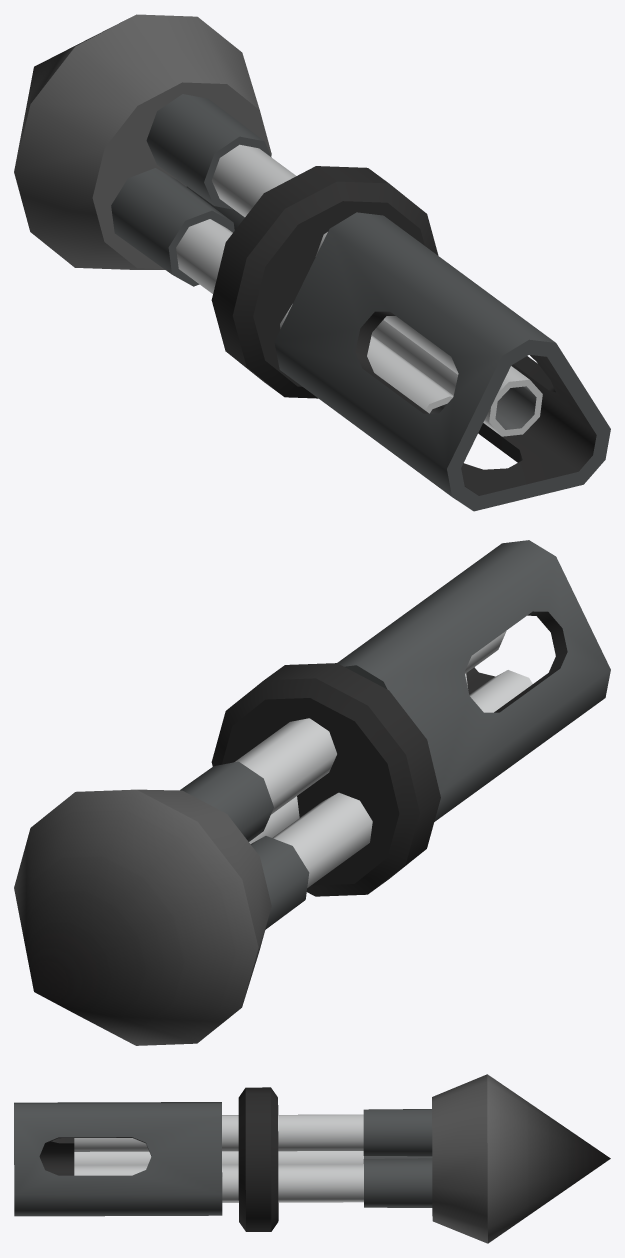
The model's file is Turret_001_Gun_03.fbx.
3 renders of one model, top to bottom at view 1: azimuth 30°, elevation 25°; view 2: azimuth 150°, elevation 25°; view 3: azimuth 270°, elevation 25°, orthographic. The views are drawn at different scales.
Parts seen in each view (by area): view 1: Turret_001_Gun_03; view 2: Turret_001_Gun_03; view 3: Turret_001_Gun_03.
Boxes of the visible parts, x1,y1,x2,y2 form: Turret_001_Gun_03: [14, 14, 610, 511]; Turret_001_Gun_03: [14, 540, 610, 1045]; Turret_001_Gun_03: [14, 1074, 610, 1243].
Size of the model in its own units: 40.78 by 143 by 40.78.
